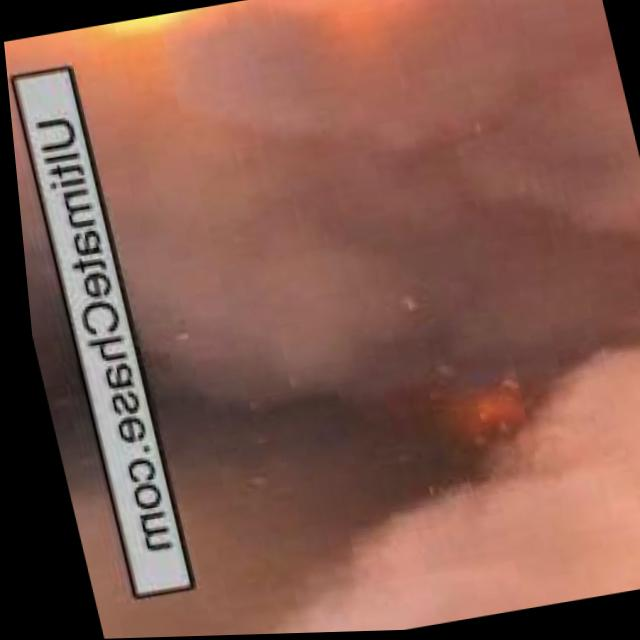Fire: (3, 0, 421, 103), (415, 380, 547, 470)
